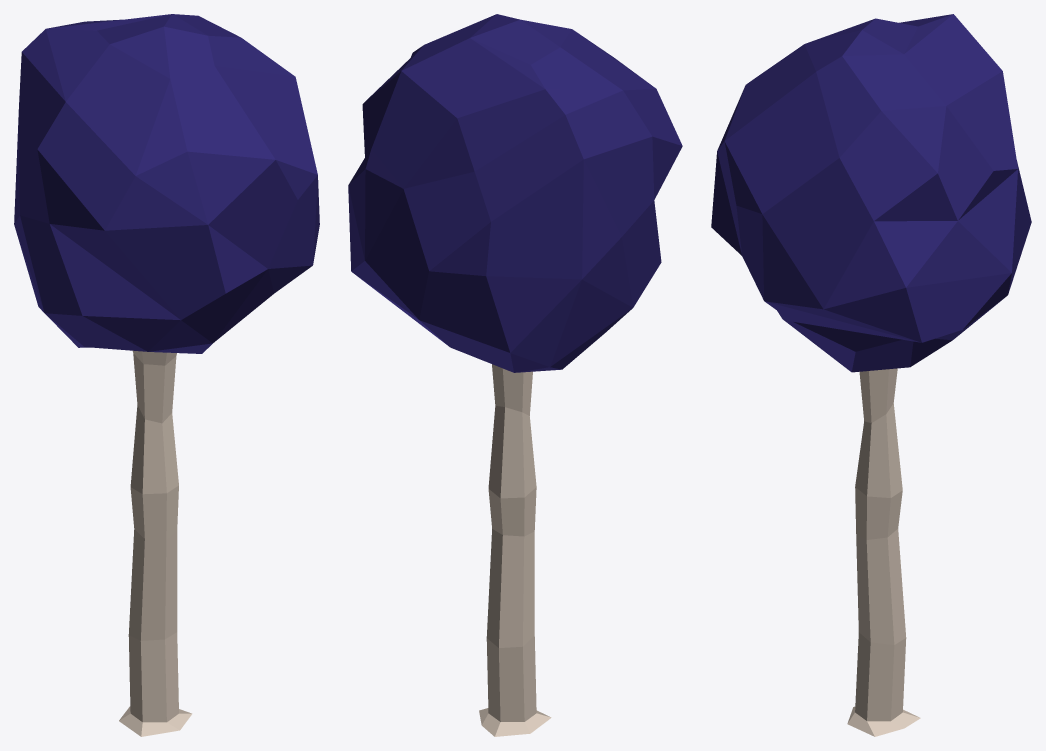
File: tree_small2.fbx
3 views of the same model, side by side, from view 1: azimuth 30°, elevation 25°; view 2: azimuth 150°, elevation 25°; view 3: azimuth 270°, elevation 25° (orthographic).
Visible parts, largest first — view 1: Sphere; view 2: Sphere; view 3: Sphere.
Boxes of the visible parts, x1,y1,x2,y2 form: Sphere: (14,14,319,736); Sphere: (348,14,682,736); Sphere: (711,14,1031,736).
Bounding box in the file's own units: 72.85 × 173 × 73.03.
